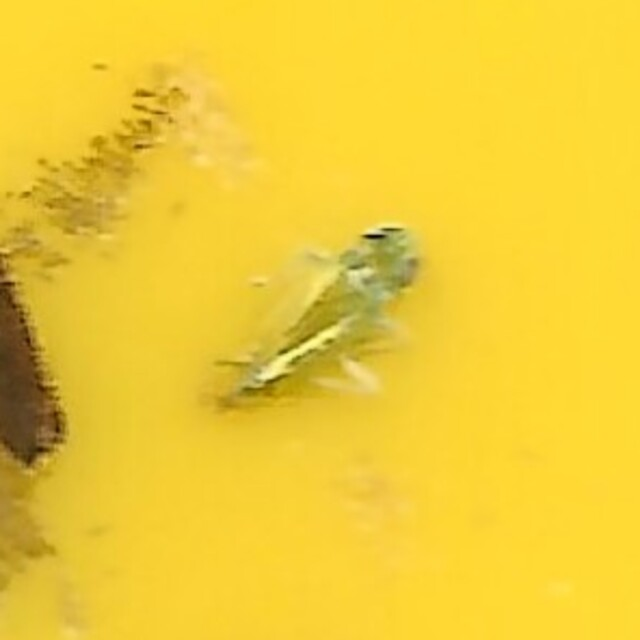Hemiptera: (216, 215, 424, 425)
